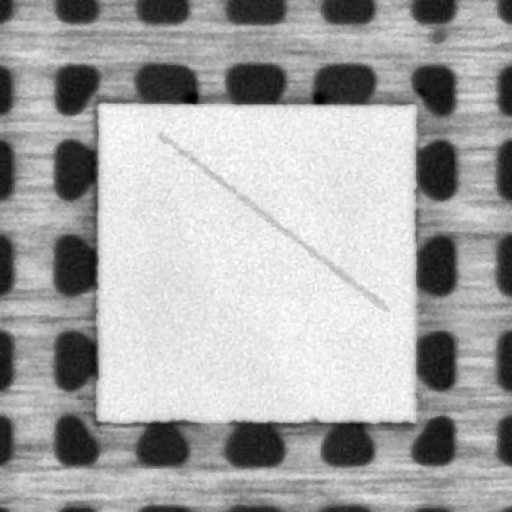DIE_CRACK: (159, 134, 385, 309)
